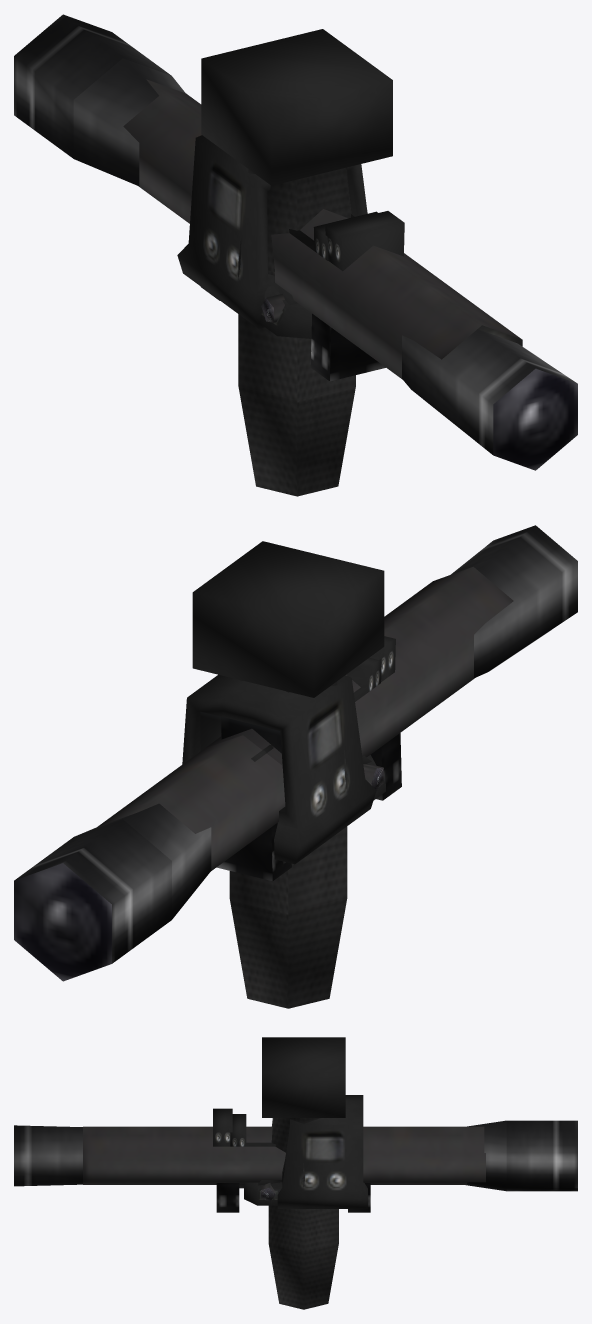
File: attachments.glb
3 views of the same model, one above another, from view 1: azimuth 30°, elevation 25°; view 2: azimuth 150°, elevation 25°; view 3: azimuth 270°, elevation 25° (orthographic). The views are drawn at different scales.
Parts seen in each view (by area): view 1: Foregrip, Scope, Surpresor, Holo Sight, Flashlight, Red Dot Sight, Laser; view 2: Foregrip, Scope, Surpresor, Holo Sight, Flashlight, Laser; view 3: Surpresor, Foregrip, Scope, Holo Sight, Flashlight, Laser, Red Dot Sight.
Part boxes in pixels (x1=…): Foregrip: x1=201, y1=29, x2=392, y2=496; Scope: x1=14, y1=14, x2=577, y2=470; Surpresor: x1=123, y1=79, x2=522, y2=379; Holo Sight: x1=177, y1=135, x2=367, y2=328; Flashlight: x1=325, y1=211, x2=404, y2=271; Red Dot Sight: x1=260, y1=285, x2=311, y2=338; Laser: x1=289, y1=211, x2=377, y2=260; Foregrip: x1=192, y1=541, x2=384, y2=1008; Scope: x1=14, y1=525, x2=577, y2=981; Surpresor: x1=97, y1=566, x2=513, y2=870; Holo Sight: x1=182, y1=674, x2=383, y2=864; Flashlight: x1=221, y1=636, x2=395, y2=752; Laser: x1=346, y1=657, x2=381, y2=701; Surpresor: x1=83, y1=1126, x2=485, y2=1184; Foregrip: x1=262, y1=1037, x2=345, y2=1309; Scope: x1=14, y1=1120, x2=577, y2=1212; Holo Sight: x1=258, y1=1095, x2=367, y2=1208; Flashlight: x1=213, y1=1108, x2=232, y2=1146; Laser: x1=230, y1=1114, x2=275, y2=1188; Red Dot Sight: x1=244, y1=1182, x2=282, y2=1205.
Size of the model in its own units: 0.1858 by 0.5464 by 1.15.
Materials: 1 (1 with a texture image).
